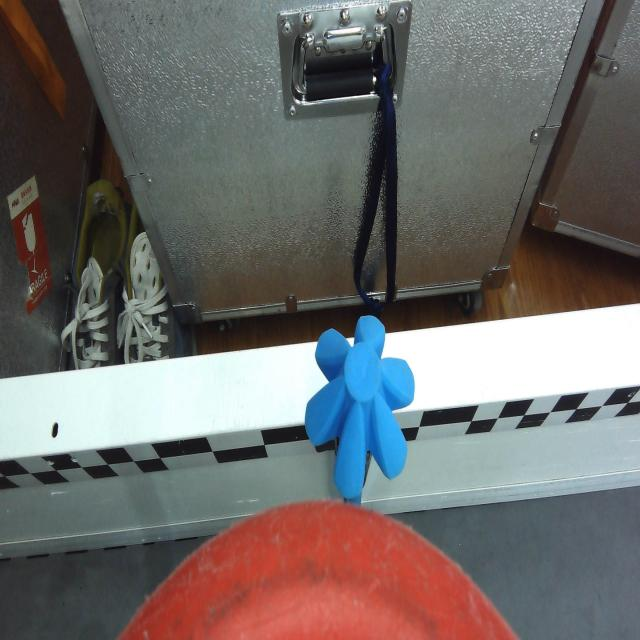zblue-Stake-Head: (304, 313, 416, 500)
